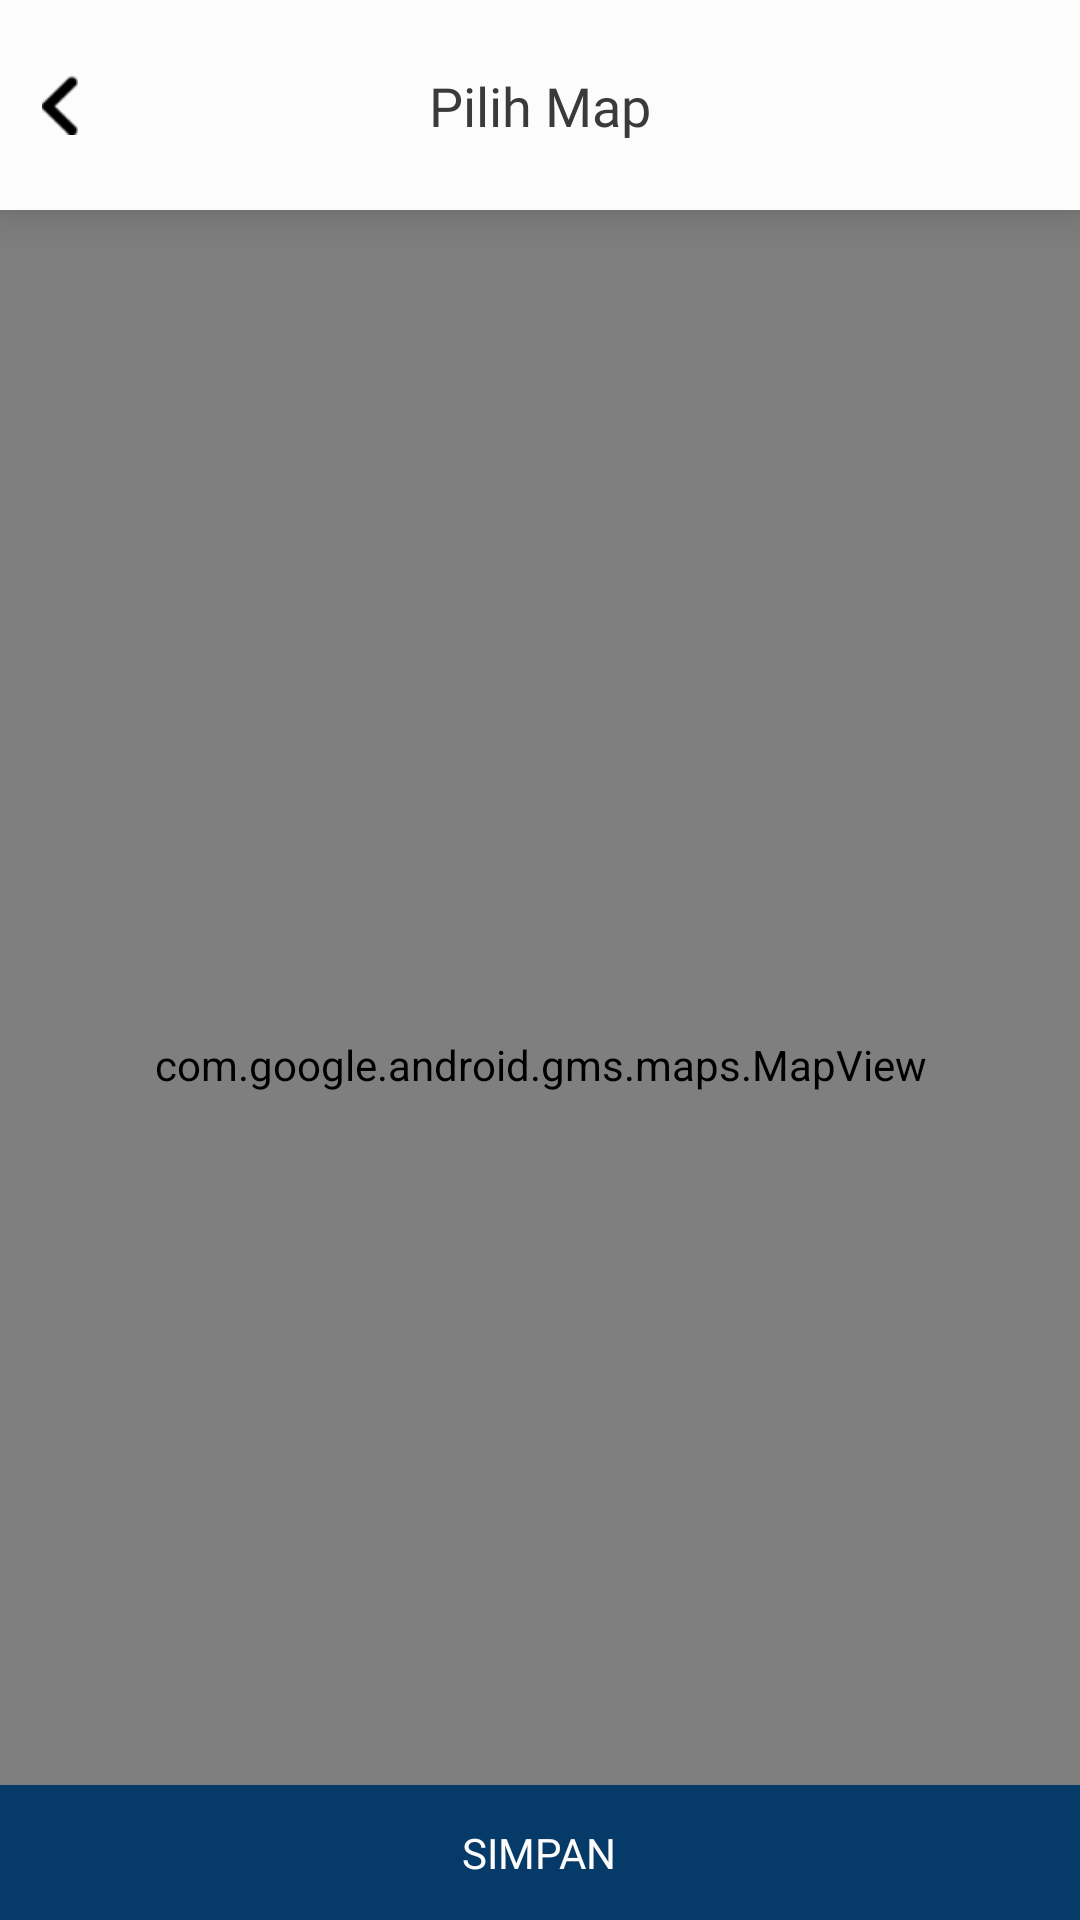

Icons on this 1080 x 1920 Android screen, each with its box as (x1, y1, x2, y2):
arrow back: (42, 76, 78, 135)
